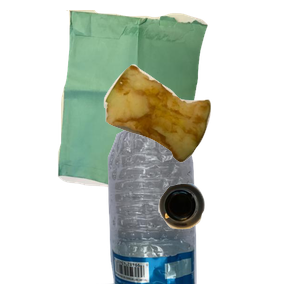glass: (156, 181, 300, 300)
paper: (55, 10, 255, 190)
plastic: (96, 120, 285, 300)
trash: (101, 62, 300, 217)
